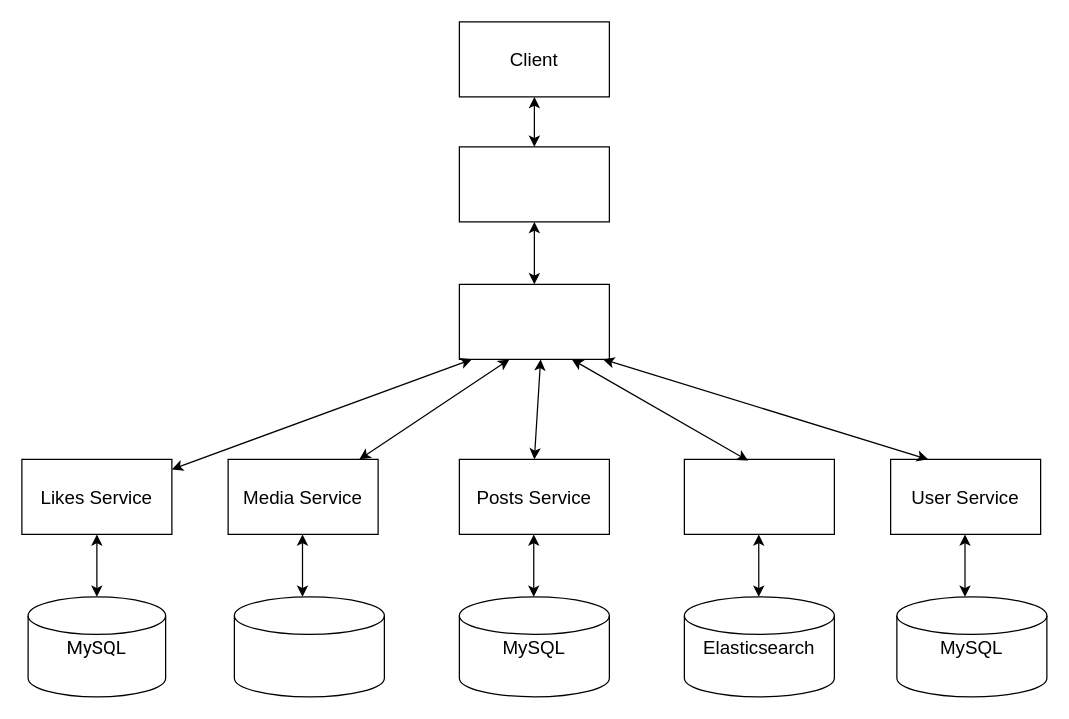
Some shapes in this 1069 by 719 pixel diagram are drawn without their labels. Each missing label, with the centre of its shape:
"API Gateway" goes at point 533,321.
"Frontend" goes at point 533,184.
"MinIO" goes at point 308,646.
"Search Service" goes at point 758,496.
